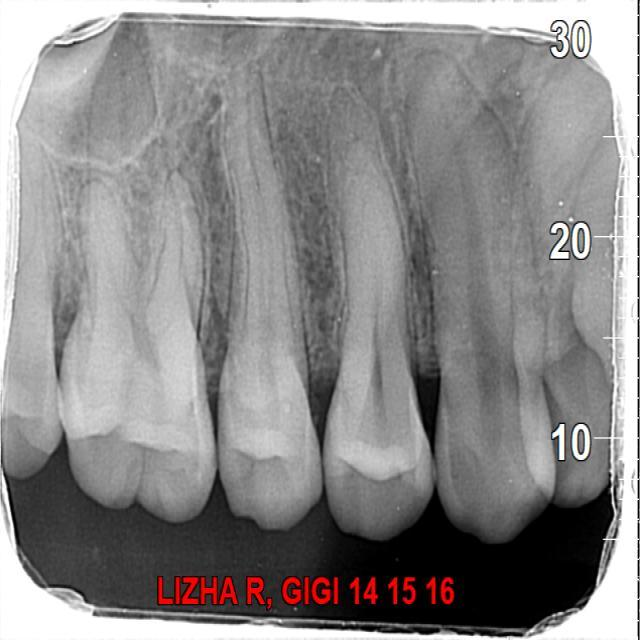individual-tooth-8tto: (412, 45, 553, 540), (325, 81, 447, 540), (60, 170, 213, 524), (217, 127, 329, 532)
